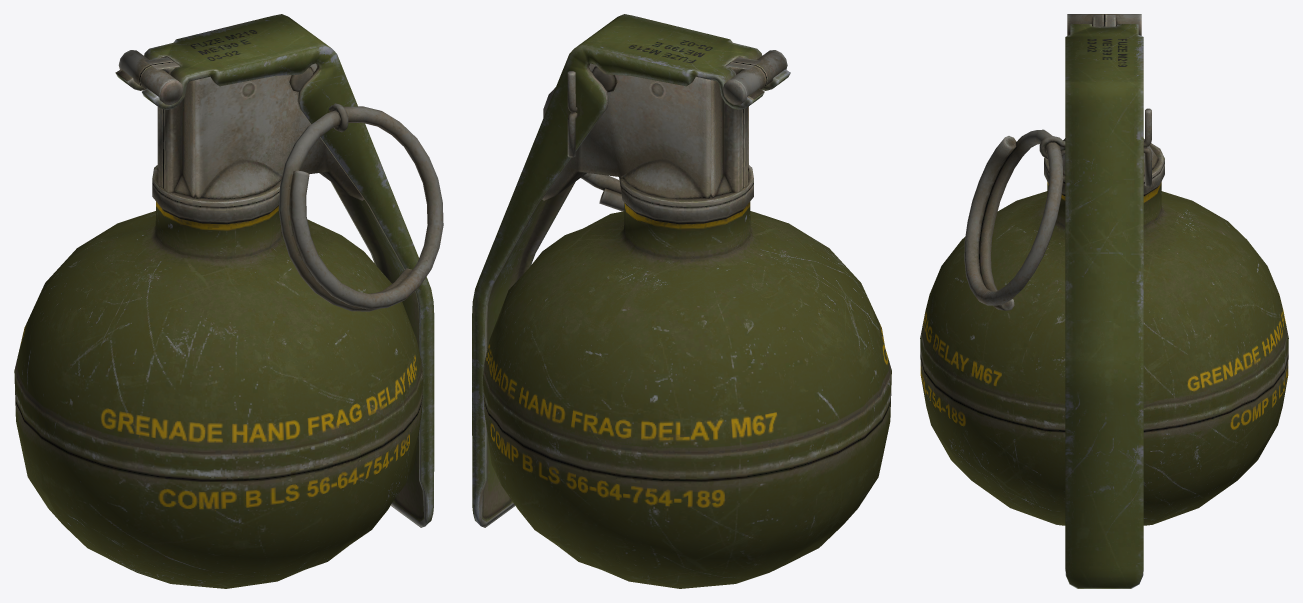
File: grenade.obj
3 renders of one model, left to right at view 1: azimuth 30°, elevation 25°; view 2: azimuth 150°, elevation 25°; view 3: azimuth 270°, elevation 25°, orthographic. The views are drawn at different scales.
Parts seen in each view (by area): view 1: GRENADE_GRENADE_M67_0; view 2: GRENADE_GRENADE_M67_0; view 3: GRENADE_GRENADE_M67_0.
Part boxes in pixels (x1,y1,x2,y2): GRENADE_GRENADE_M67_0: (14, 14, 443, 588); GRENADE_GRENADE_M67_0: (472, 14, 891, 588); GRENADE_GRENADE_M67_0: (920, 14, 1288, 588).
Bounding box in the file's own units: 6.51 × 8.71 × 6.23.
Materials: 1 (1 with a texture image).
